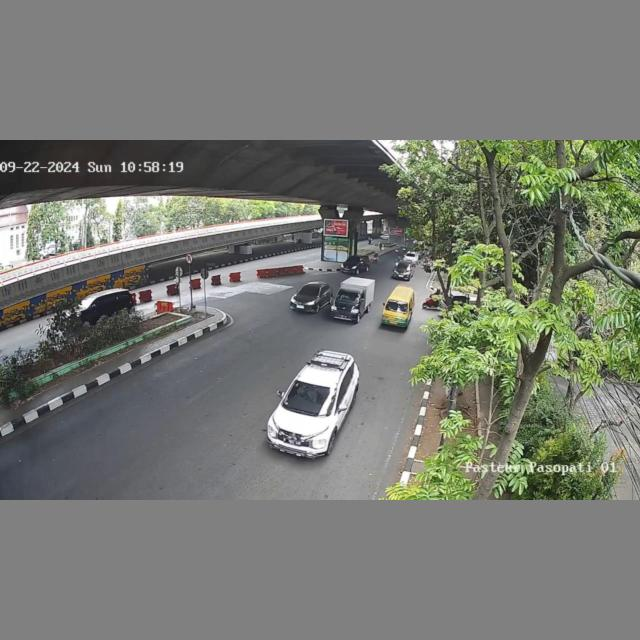windshield: (283, 380, 336, 414), (336, 290, 362, 303), (386, 300, 408, 313), (299, 285, 320, 296)
